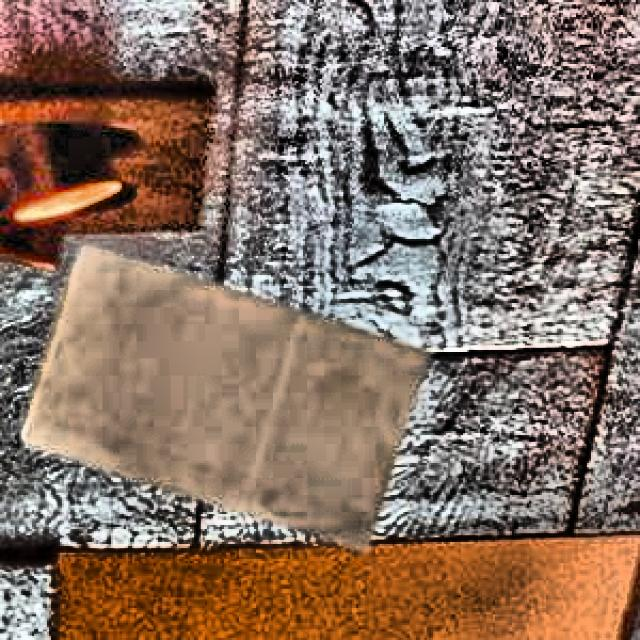Paper-bag: (16, 239, 443, 563)
